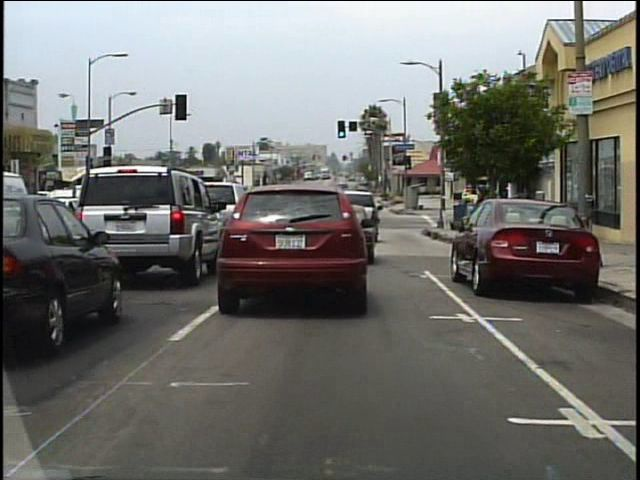person: (471, 195, 484, 242)
